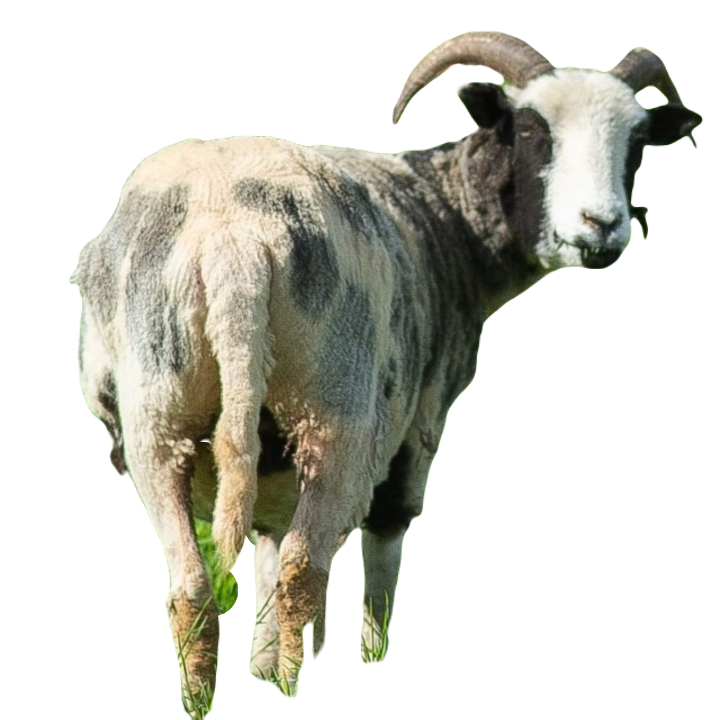Sheep: (68, 28, 706, 719)
